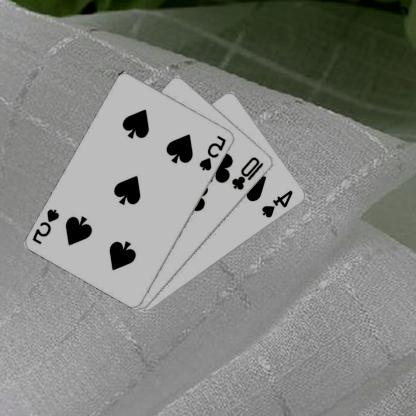10C: (231, 154, 267, 192)
4S: (261, 188, 296, 219)
5S: (198, 133, 230, 172), (32, 206, 63, 245)
